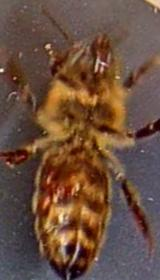varroa_mite: (29, 186, 58, 217)
